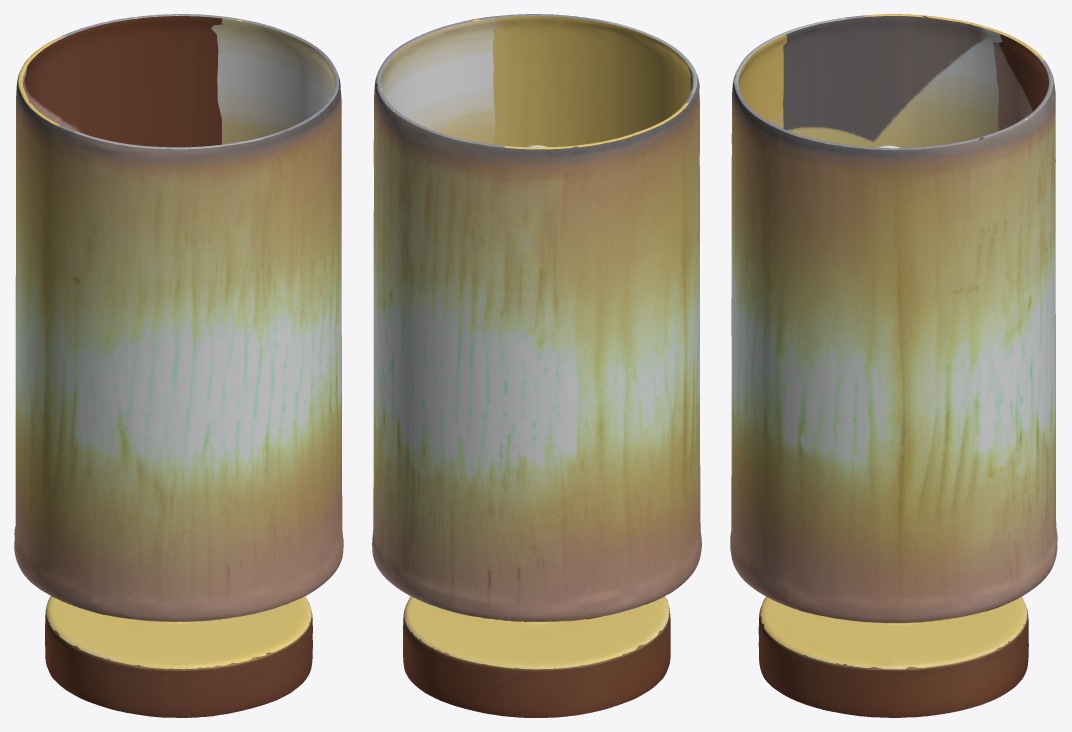
File: lamp__lamp#1.glb
The picture shows the model from 3 angles, left to right: view 1: azimuth 30°, elevation 25°; view 2: azimuth 150°, elevation 25°; view 3: azimuth 270°, elevation 25°; orthographic projection.
Parts seen in each view (by area): view 1: tmpl2pvubkg.ply; view 2: tmpl2pvubkg.ply; view 3: tmpl2pvubkg.ply.
Part boxes in pixels (x1=…): tmpl2pvubkg.ply: x1=14, y1=14, x2=343, y2=717; tmpl2pvubkg.ply: x1=372, y1=14, x2=701, y2=717; tmpl2pvubkg.ply: x1=730, y1=14, x2=1057, y2=717.
Bounding box in the file's own units: 1.02 × 1.99 × 1.01.
1 material, 1 textured.
